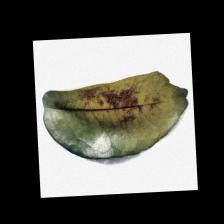black spot: (73, 86, 152, 124)
